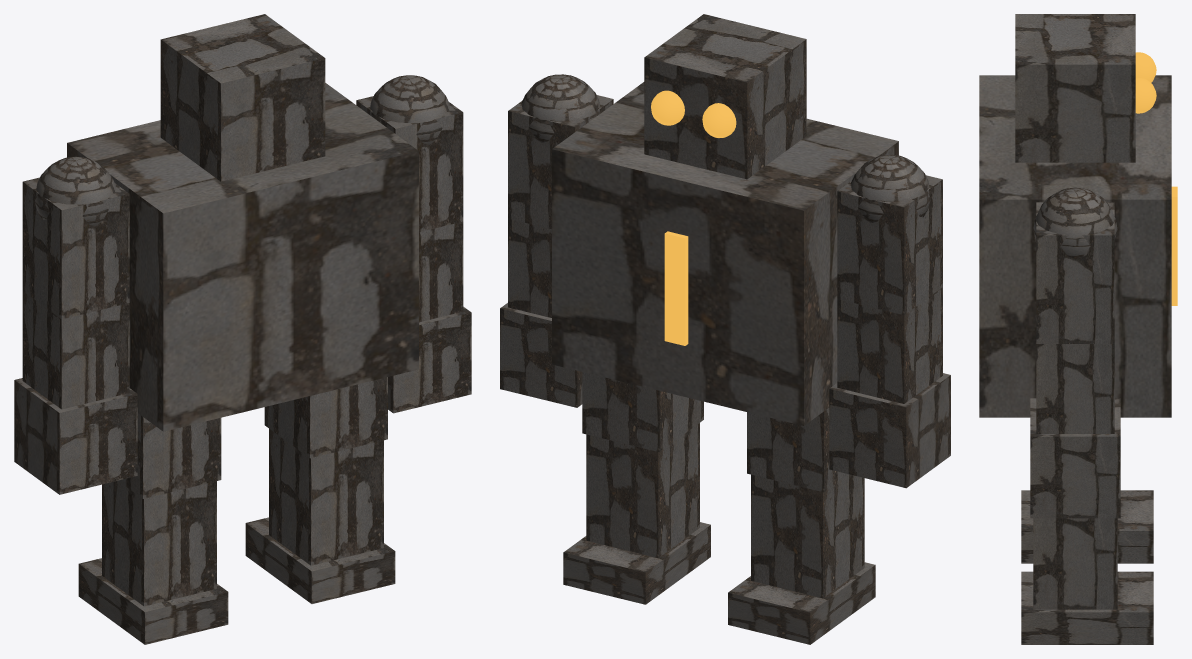
The model's file is golem-construct-proof.glb.
3 renders of one model, left to right at view 1: azimuth 30°, elevation 25°; view 2: azimuth 150°, elevation 25°; view 3: azimuth 270°, elevation 25°, orthographic.
Visible parts, largest first — view 1: Torso, Head, Shin.001, Shin, UpperArm, Fist, Forearm, Thigh.001, Foot.001, Foot, Thigh, Fist.001 (+4 smaller); view 2: Torso, Head, Shin.001, Shin, UpperArm, Fist, Forearm, Thigh.001, Foot, Foot.001, Thigh, Fist.001 (+7 smaller); view 3: Torso, Head, UpperArm.001, Fist.001, Shin.001, Forearm.001, Foot.001, JointShoulder.001, Foot, ChestRune, Eye.001, Eye.
Boxes of the visible parts, x1=… form: Torso: x1=67, y1=83, x2=418, y2=431; Head: x1=160, y1=14, x2=325, y2=181; Shin.001: x1=269, y1=428, x2=383, y2=565; Shin: x1=102, y1=480, x2=216, y2=606; UpperArm: x1=22, y1=177, x2=129, y2=319; Fist: x1=14, y1=378, x2=137, y2=494; Forearm: x1=22, y1=291, x2=129, y2=409; Thigh.001: x1=264, y1=377, x2=387, y2=458; Foot.001: x1=245, y1=517, x2=395, y2=603; Foot: x1=78, y1=558, x2=228, y2=644; Thigh: x1=118, y1=413, x2=221, y2=498; Fist.001: x1=388, y1=306, x2=471, y2=413; Torso: x1=552, y1=82, x2=898, y2=425; Head: x1=644, y1=14, x2=806, y2=179; Shin.001: x1=586, y1=423, x2=699, y2=558; Shin: x1=751, y1=474, x2=864, y2=598; UpperArm: x1=837, y1=175, x2=942, y2=314; Fist: x1=829, y1=373, x2=950, y2=488; Forearm: x1=837, y1=287, x2=942, y2=403; Thigh.001: x1=582, y1=372, x2=703, y2=452; Foot: x1=728, y1=562, x2=875, y2=644; Foot.001: x1=563, y1=522, x2=710, y2=604; Thigh: x1=747, y1=408, x2=848, y2=492; Fist.001: x1=500, y1=303, x2=582, y2=407; Torso: x1=979, y1=75, x2=1171, y2=417; Head: x1=1015, y1=14, x2=1135, y2=162; UpperArm.001: x1=1036, y1=202, x2=1114, y2=343; Fist.001: x1=1030, y1=398, x2=1120, y2=518; Shin.001: x1=1033, y1=518, x2=1117, y2=609; Forearm.001: x1=1036, y1=344, x2=1114, y2=433; Foot.001: x1=1021, y1=571, x2=1153, y2=644; JointShoulder.001: x1=1033, y1=187, x2=1117, y2=259; Foot: x1=1021, y1=490, x2=1153, y2=563; ChestRune: x1=1171, y1=186, x2=1177, y2=305; Eye.001: x1=1135, y1=77, x2=1156, y2=113; Eye: x1=1135, y1=52, x2=1156, y2=82.
Bounding box in the file's own units: 0.79 × 1 × 0.33.
Materials: 2 (1 with a texture image).
